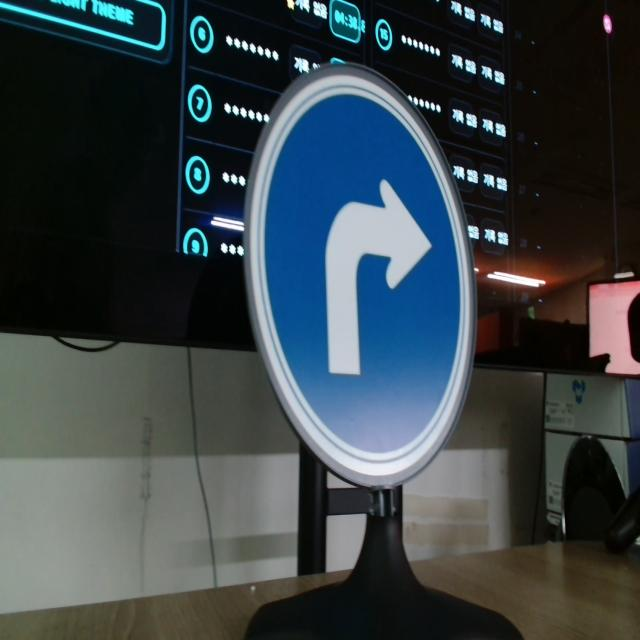right_dierection: (244, 68, 480, 486)
